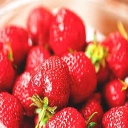strawberry: (28, 54, 71, 113)
